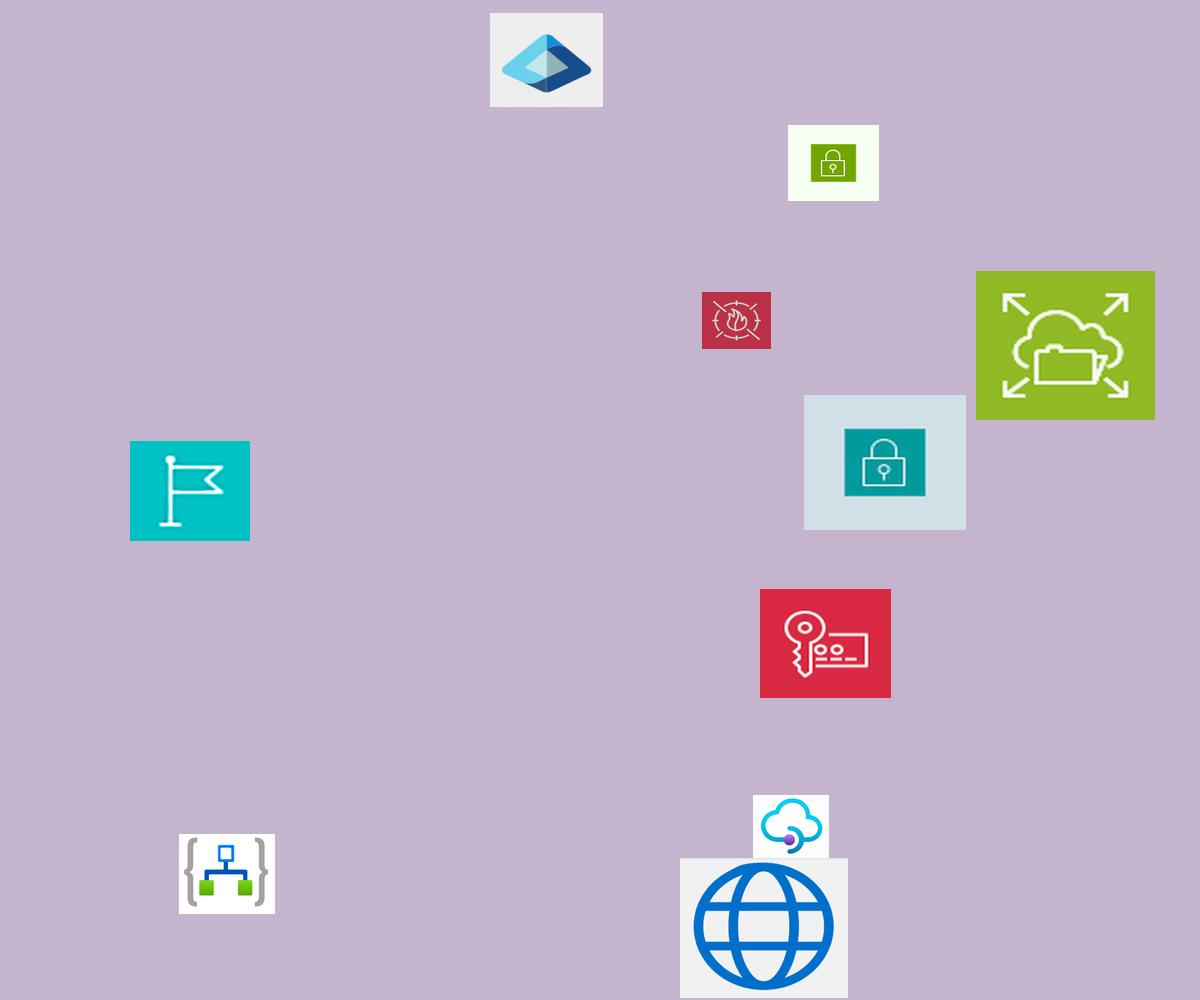AWS-EFS: (976, 271, 1155, 420)
AWS-Key-Management-Service: (760, 589, 891, 698)
AWS-Private-subnet: (804, 395, 966, 530)
AWS-Public-subnet: (788, 125, 879, 201)
AWS-Region: (130, 441, 250, 541)
AWS-WAF: (702, 292, 771, 349)
Azure_api_gateway: (753, 795, 829, 858)
Azure_http: (680, 858, 848, 998)
Azure_integration-204-Logic-Apps: (179, 834, 275, 914)
Azure_microsoft_entra: (490, 13, 603, 107)
